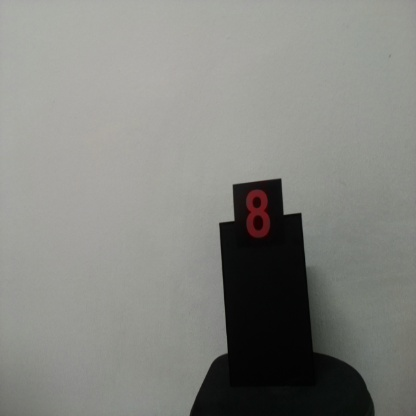id_8: (233, 184, 285, 257)
